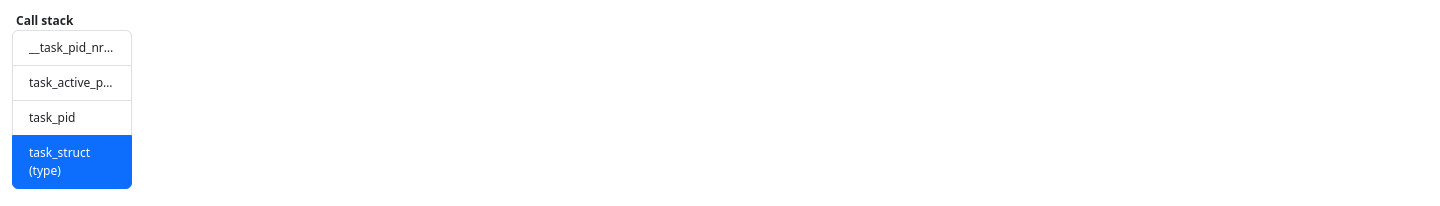
Test: after click on function in callstack › selected function should be active function in callstack
The width and height of the screenshot is (1440, 206).
Click the list item "task_active_pid_ns" at (72, 84), box [12, 66, 132, 101]
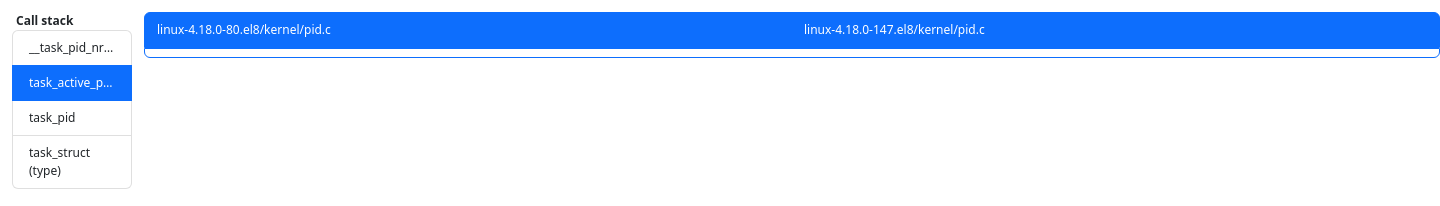
Result: the text "linux-4.18.0-80.el8/kernel/pid.c" is shown at [157, 21, 331, 38]
